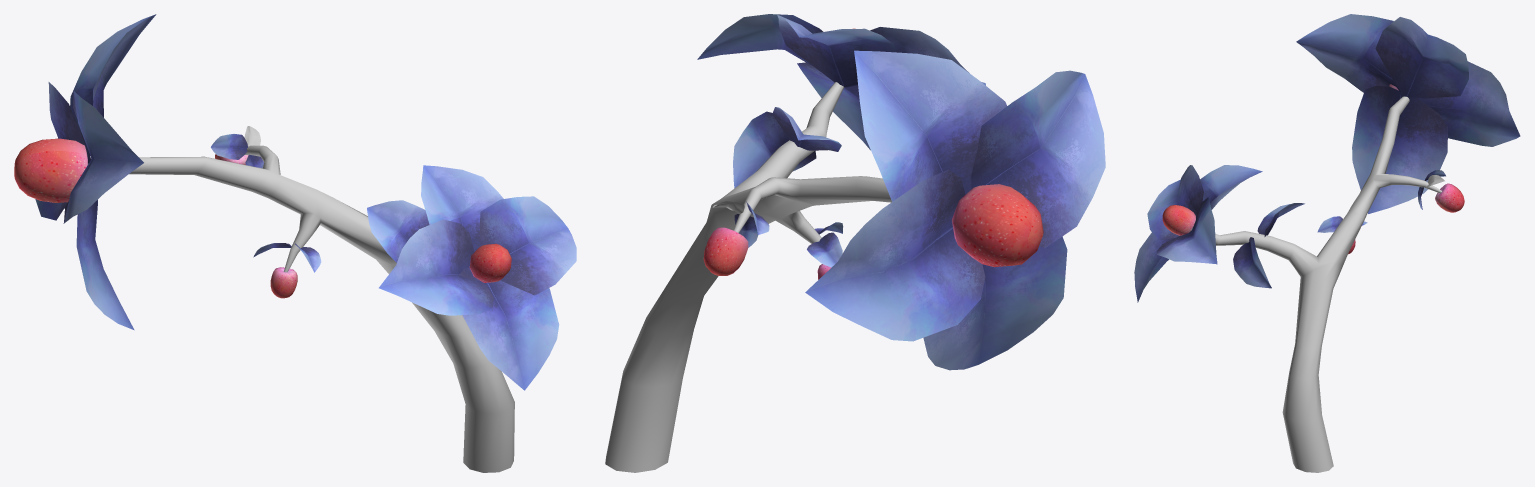
File: stemmyplant.fbx
3 views of the same model, side by side, from view 1: azimuth 30°, elevation 25°; view 2: azimuth 150°, elevation 25°; view 3: azimuth 270°, elevation 25° (orthographic). The views are drawn at different scales.
Parts seen in each view (by area): view 1: polySurface137; view 2: polySurface137; view 3: polySurface137.
Boxes of the visible parts, <box> form: polySurface137: <box>14,14,576,472</box>; polySurface137: <box>605,14,1105,472</box>; polySurface137: <box>1134,14,1520,472</box>.
Bounding box in the file's own units: 99.57 × 102 × 106.
